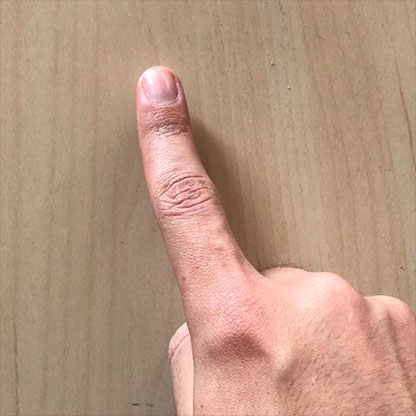fingertip: (134, 62, 189, 117)
